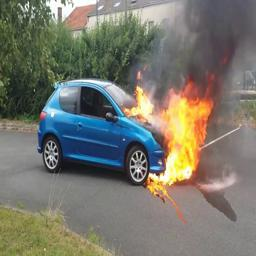fire: (123, 72, 214, 185)
